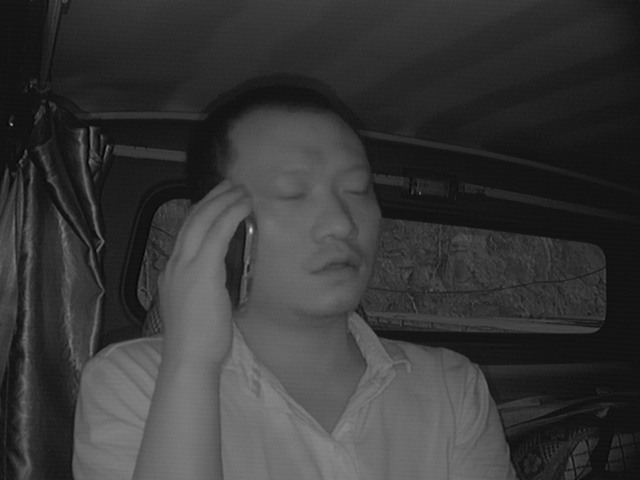hand: (152, 180, 258, 355)
